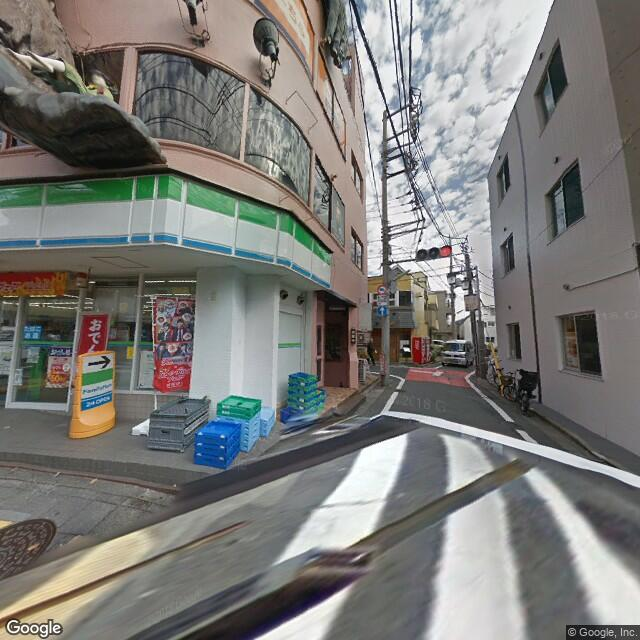family_mart: (3, 172, 331, 286), (79, 367, 113, 410)
